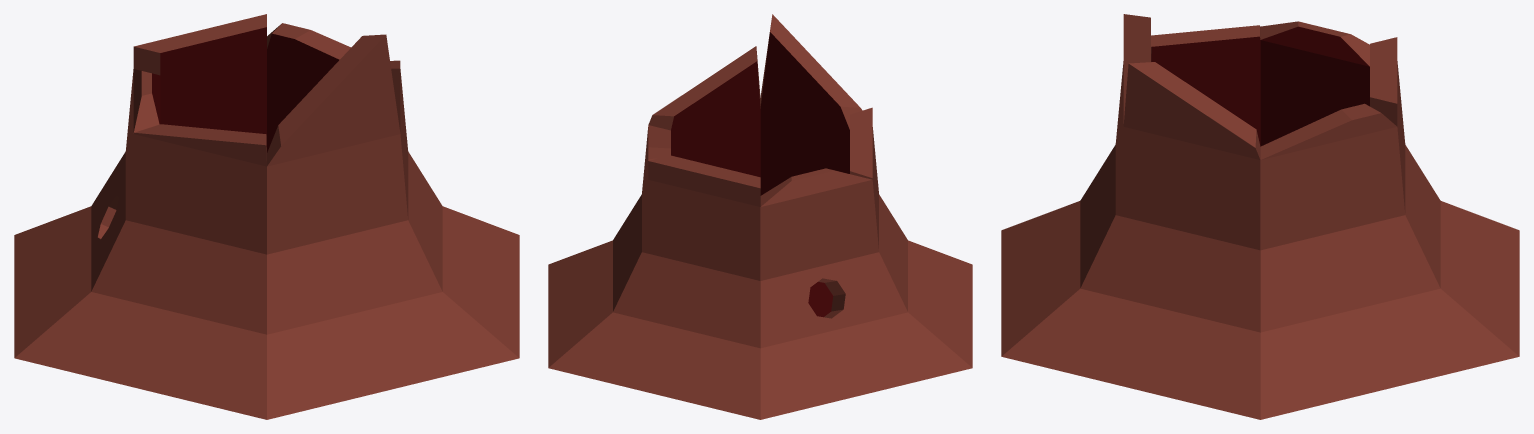
Rendered from Stump.fbx.
3 views of the same model, side by side, from view 1: azimuth 30°, elevation 25°; view 2: azimuth 150°, elevation 25°; view 3: azimuth 270°, elevation 25° (orthographic). The views are drawn at different scales.
Visible parts, largest first — view 1: Stump; view 2: Stump; view 3: Stump.
Part boxes in pixels (x1=…): Stump: x1=14, y1=14, x2=519, y2=419; Stump: x1=548, y1=14, x2=972, y2=419; Stump: x1=1001, y1=14, x2=1519, y2=419.
Size of the model in its own units: 0.7856 by 0.9071 by 0.5117.
